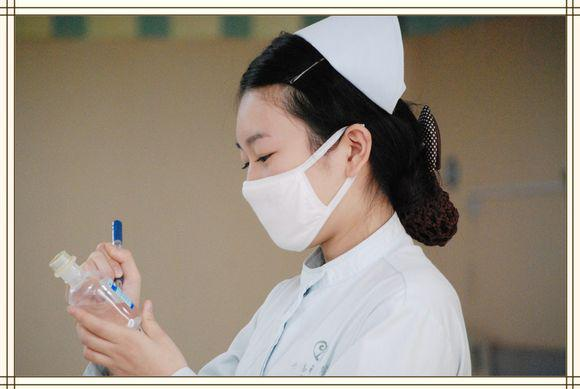OK: (236, 129, 365, 252)
